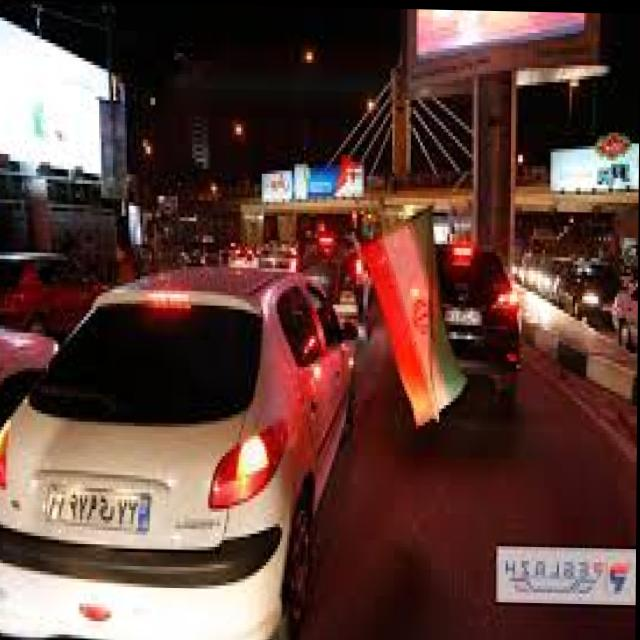licence: (48, 477, 151, 531)
